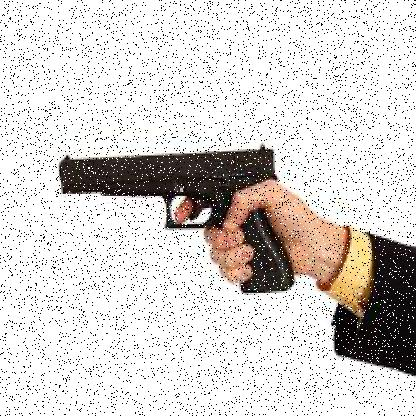pistol: (53, 143, 304, 292)
